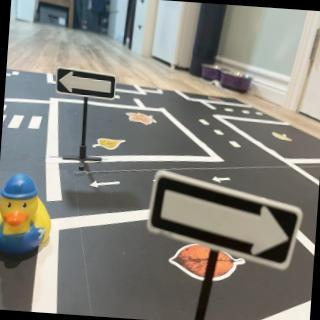duck_specialty: (1, 169, 57, 258)
road_crosswalk: (3, 109, 46, 134)
road_oneway: (88, 177, 124, 192), (210, 173, 234, 187)
sign_oneway_left: (55, 67, 120, 104)
sign_oneway_right: (143, 169, 308, 276)
